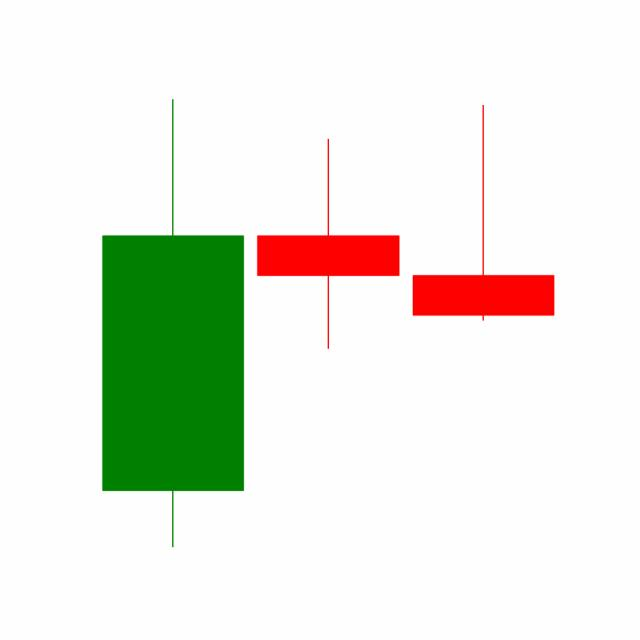Spinning Top: (249, 136, 406, 352)
